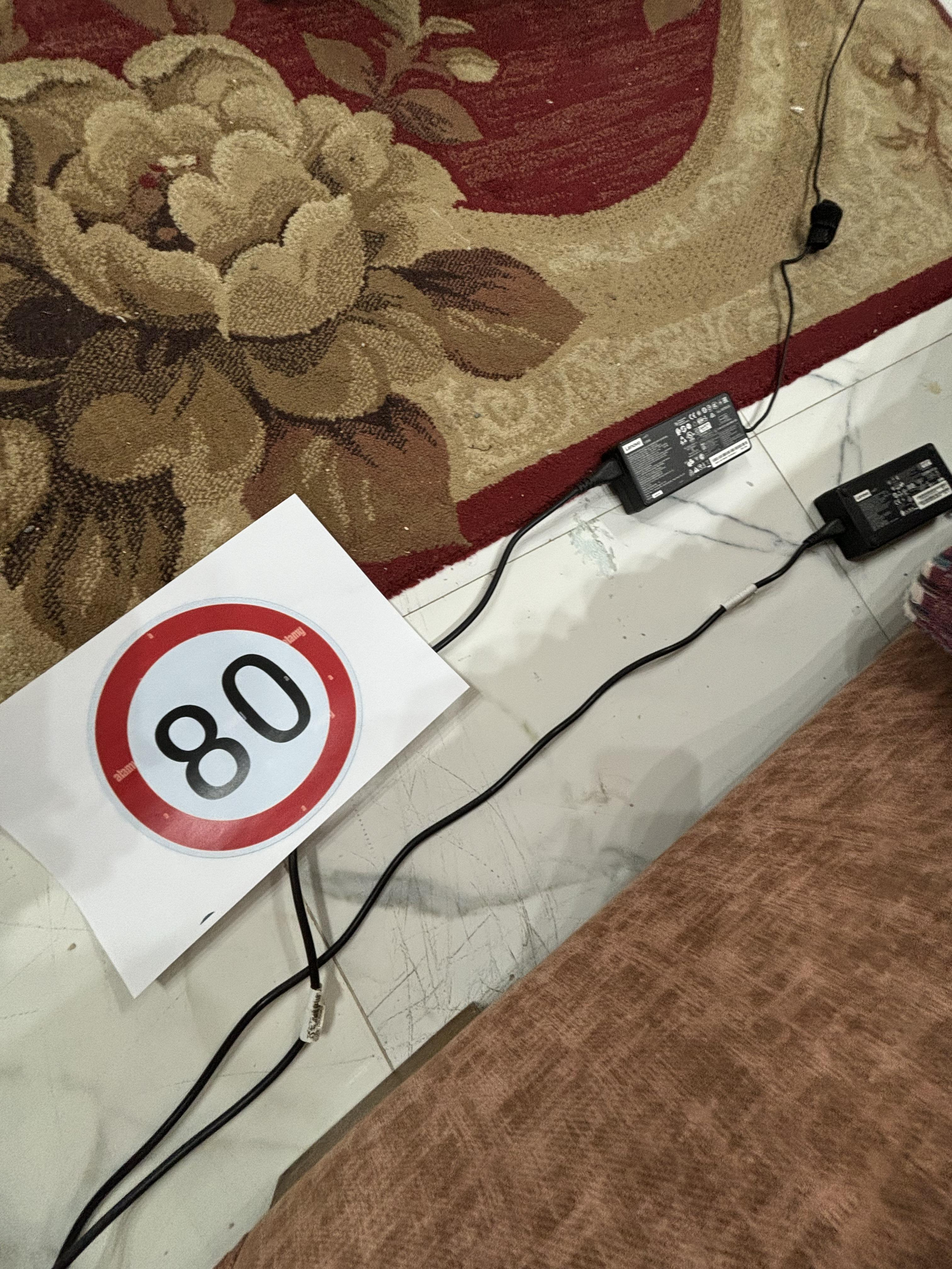80-Speed: (95, 586, 362, 840)
